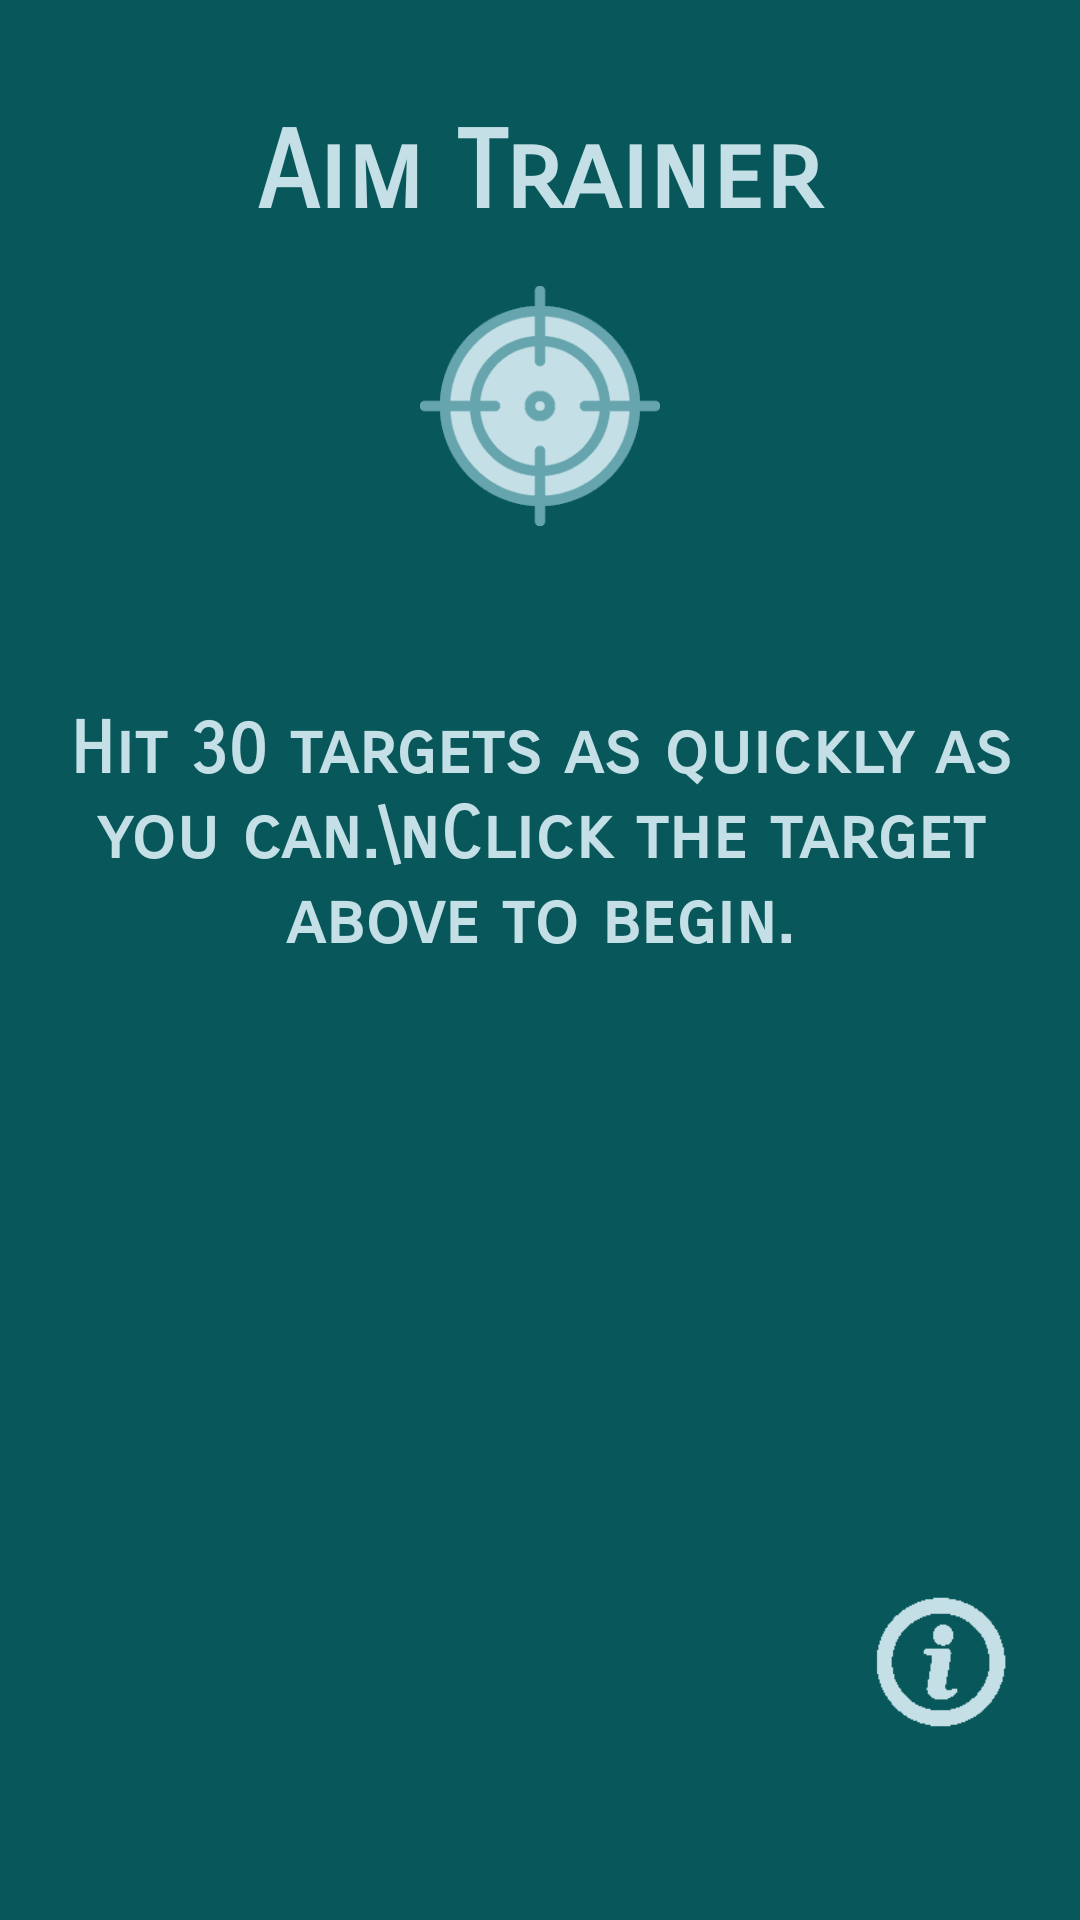

Named icons in this screenshot (1080px×1920px) and their bounding boxes, {"left": x1, "top": y1, "right": x2, "bottom": y2}:
info: {"left": 877, "top": 1597, "right": 1006, "bottom": 1727}
